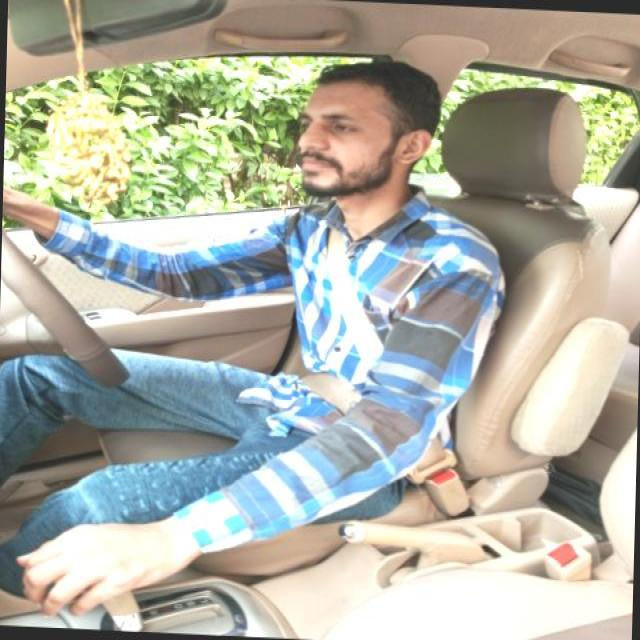seatbelt: (221, 199, 487, 529)
